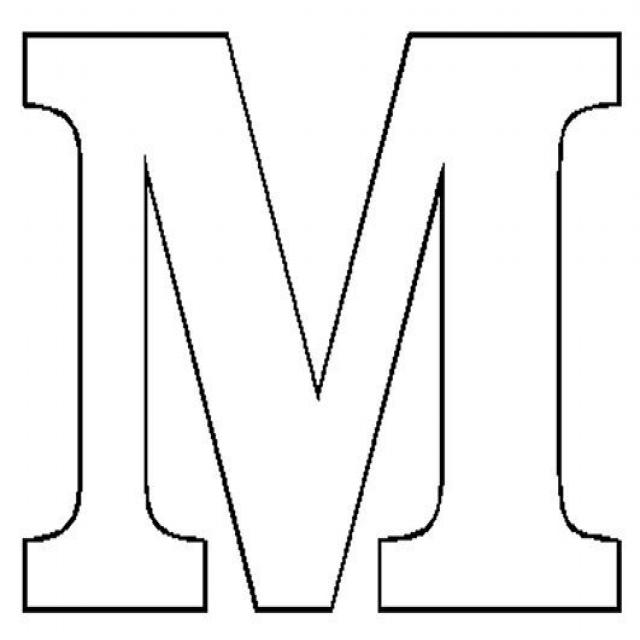M: (4, 14, 633, 626)
